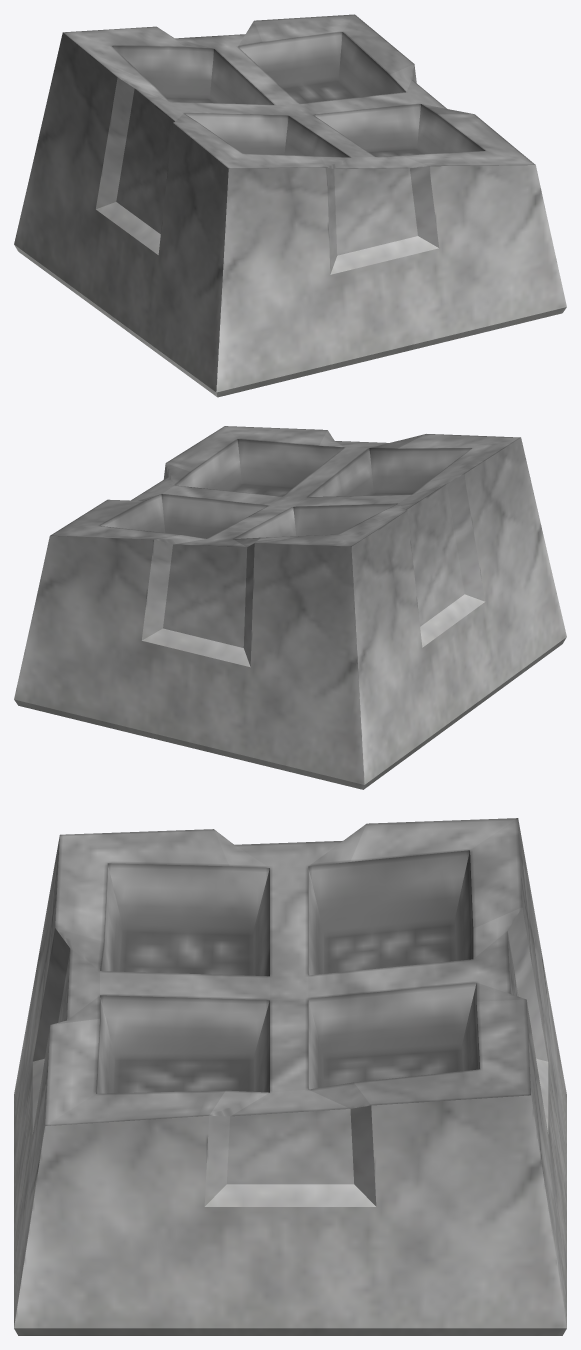
File: towerdamaged.fbx
The picture shows the model from 3 angles, top to bottom: view 1: azimuth 30°, elevation 25°; view 2: azimuth 150°, elevation 25°; view 3: azimuth 270°, elevation 25°; orthographic projection. The views are drawn at different scales.
Parts seen in each view (by area): view 1: pTowerDamaged; view 2: pTowerDamaged; view 3: pTowerDamaged.
Boxes of the visible parts, <box> form: pTowerDamaged: <box>14,14,566,397</box>; pTowerDamaged: <box>14,426,566,789</box>; pTowerDamaged: <box>14,818,566,1335</box>.
Size of the model in its own units: 4.97 by 3.04 by 4.97.
1 material, 1 textured.
